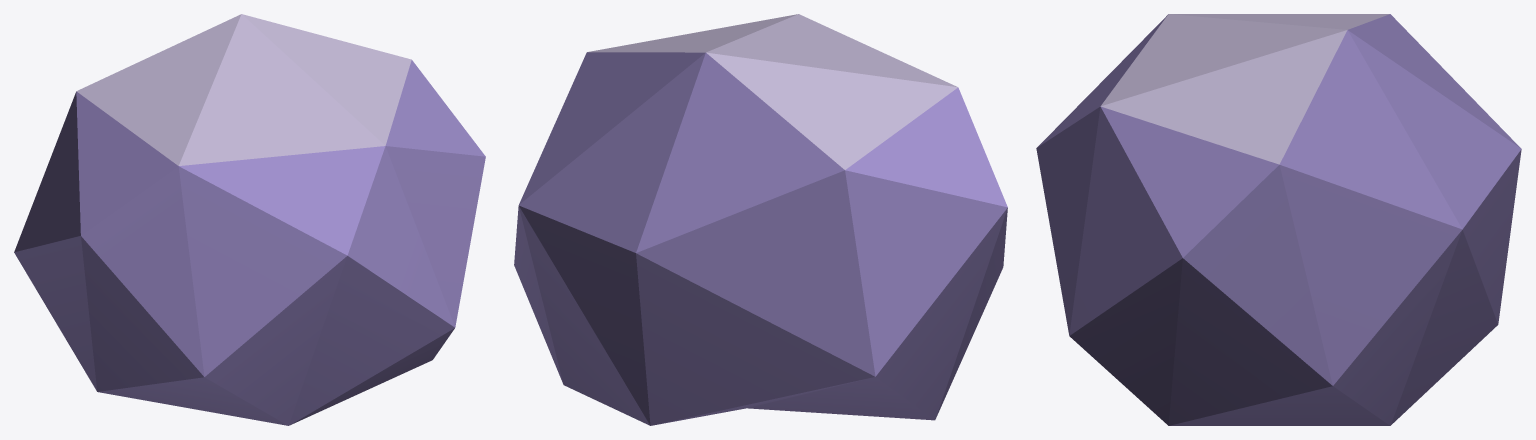
File: pebble.glb
The picture shows the model from 3 angles, left to right: view 1: azimuth 30°, elevation 25°; view 2: azimuth 150°, elevation 25°; view 3: azimuth 270°, elevation 25°; orthographic projection. The views are drawn at different scales.
Parts seen in each view (by area): view 1: root_mesh; view 2: root_mesh; view 3: root_mesh.
Part boxes in pixels (x1,y1,x2,y2): root_mesh: [14, 14, 485, 425]; root_mesh: [514, 14, 1007, 425]; root_mesh: [1036, 14, 1521, 425].
Bounding box in the file's own units: 0.3 × 0.2257 × 0.2933.
